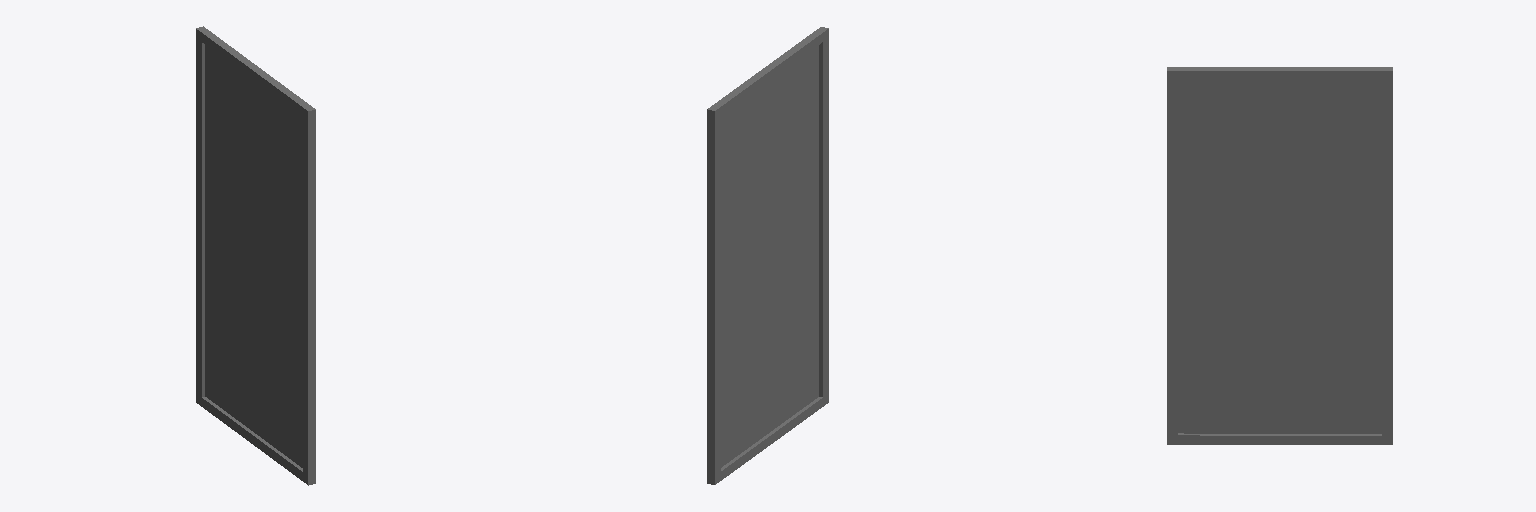
Rendered from PINTU.obj.
3 views of the same model, side by side, from view 1: azimuth 30°, elevation 25°; view 2: azimuth 150°, elevation 25°; view 3: azimuth 270°, elevation 25° (orthographic).
Visible parts, largest first — view 1: polySurface4, polySurface3; view 2: polySurface4, polySurface3; view 3: polySurface4, polySurface3.
Part boxes in pixels (left/top/right/bottom): polySurface4: left=205, top=45, right=302, bottom=467; polySurface3: left=196, top=26, right=315, bottom=485; polySurface4: left=721, top=45, right=818, bottom=467; polySurface3: left=707, top=27, right=828, bottom=484; polySurface4: left=1178, top=80, right=1381, bottom=433; polySurface3: left=1167, top=67, right=1392, bottom=444.
Bounding box in the file's own units: 0.0939 × 3.95 × 2.17.